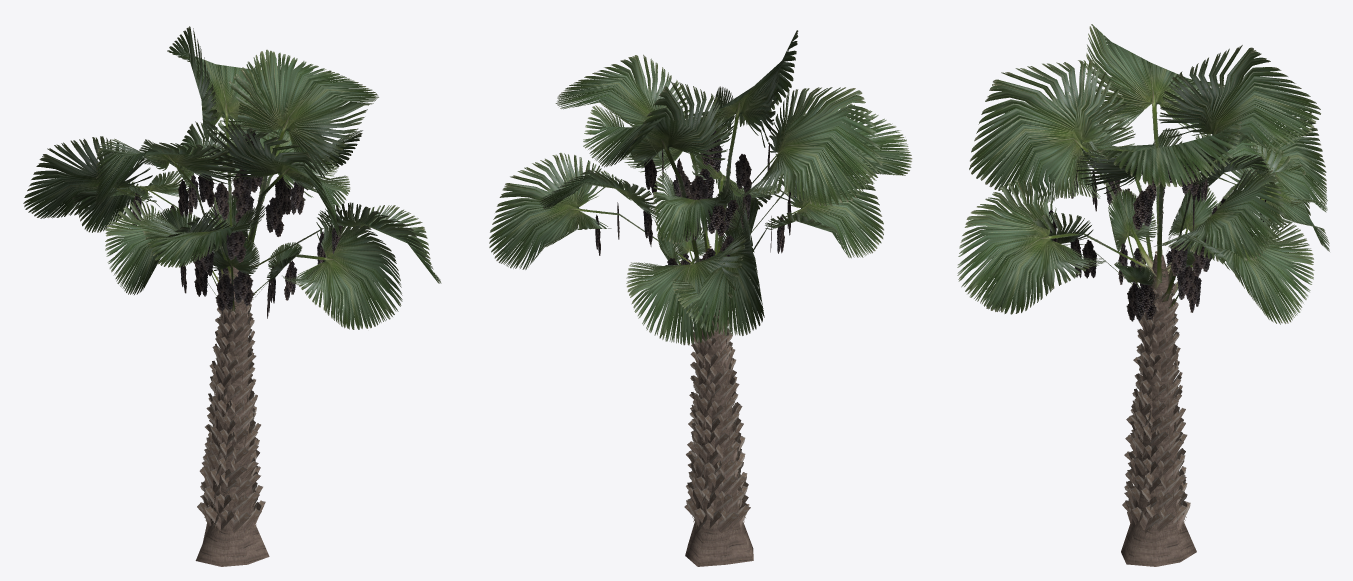
File: Sabal_Mexicana_Autumn_Young.glb
3 views of the same model, side by side, from view 1: azimuth 30°, elevation 25°; view 2: azimuth 150°, elevation 25°; view 3: azimuth 270°, elevation 25° (orthographic). The views are drawn at different scales.
Parts seen in each view (by area): view 1: Sabal_Mexicana_Autumn_Young__LOD3; view 2: Sabal_Mexicana_Autumn_Young__LOD3; view 3: Sabal_Mexicana_Autumn_Young__LOD3.
Part boxes in pixels (box(x1,y1,x2,y2)): Sabal_Mexicana_Autumn_Young__LOD3: box(23, 26, 441, 566); Sabal_Mexicana_Autumn_Young__LOD3: box(489, 30, 912, 566); Sabal_Mexicana_Autumn_Young__LOD3: box(957, 24, 1329, 566).
Bounding box in the file's own units: 5.12 × 7.33 × 5.02.
Materials: 3 (3 with a texture image).
